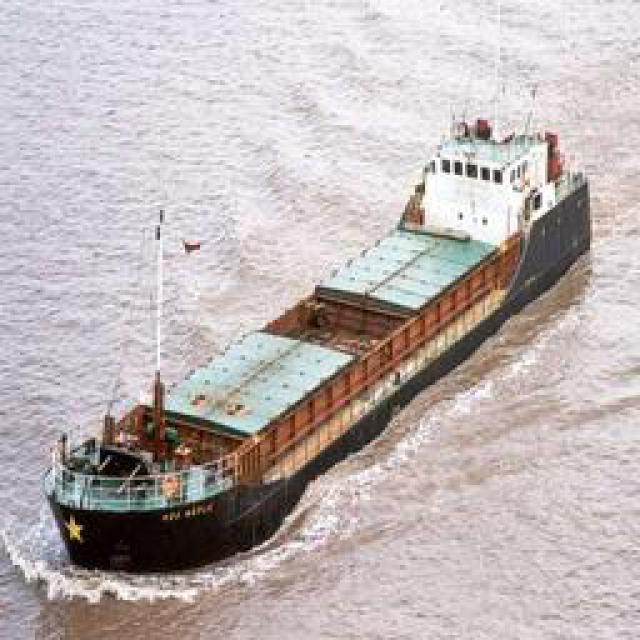Ship: (59, 123, 602, 561)
